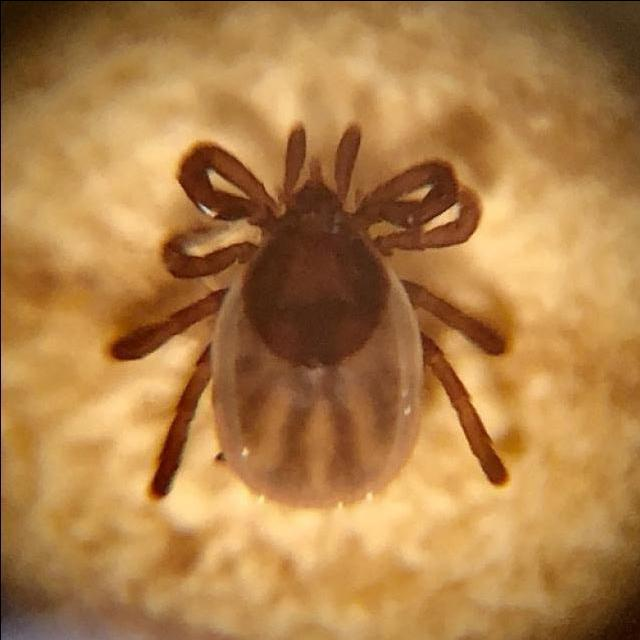Ixodes Ricinus-F: (110, 124, 509, 511)
